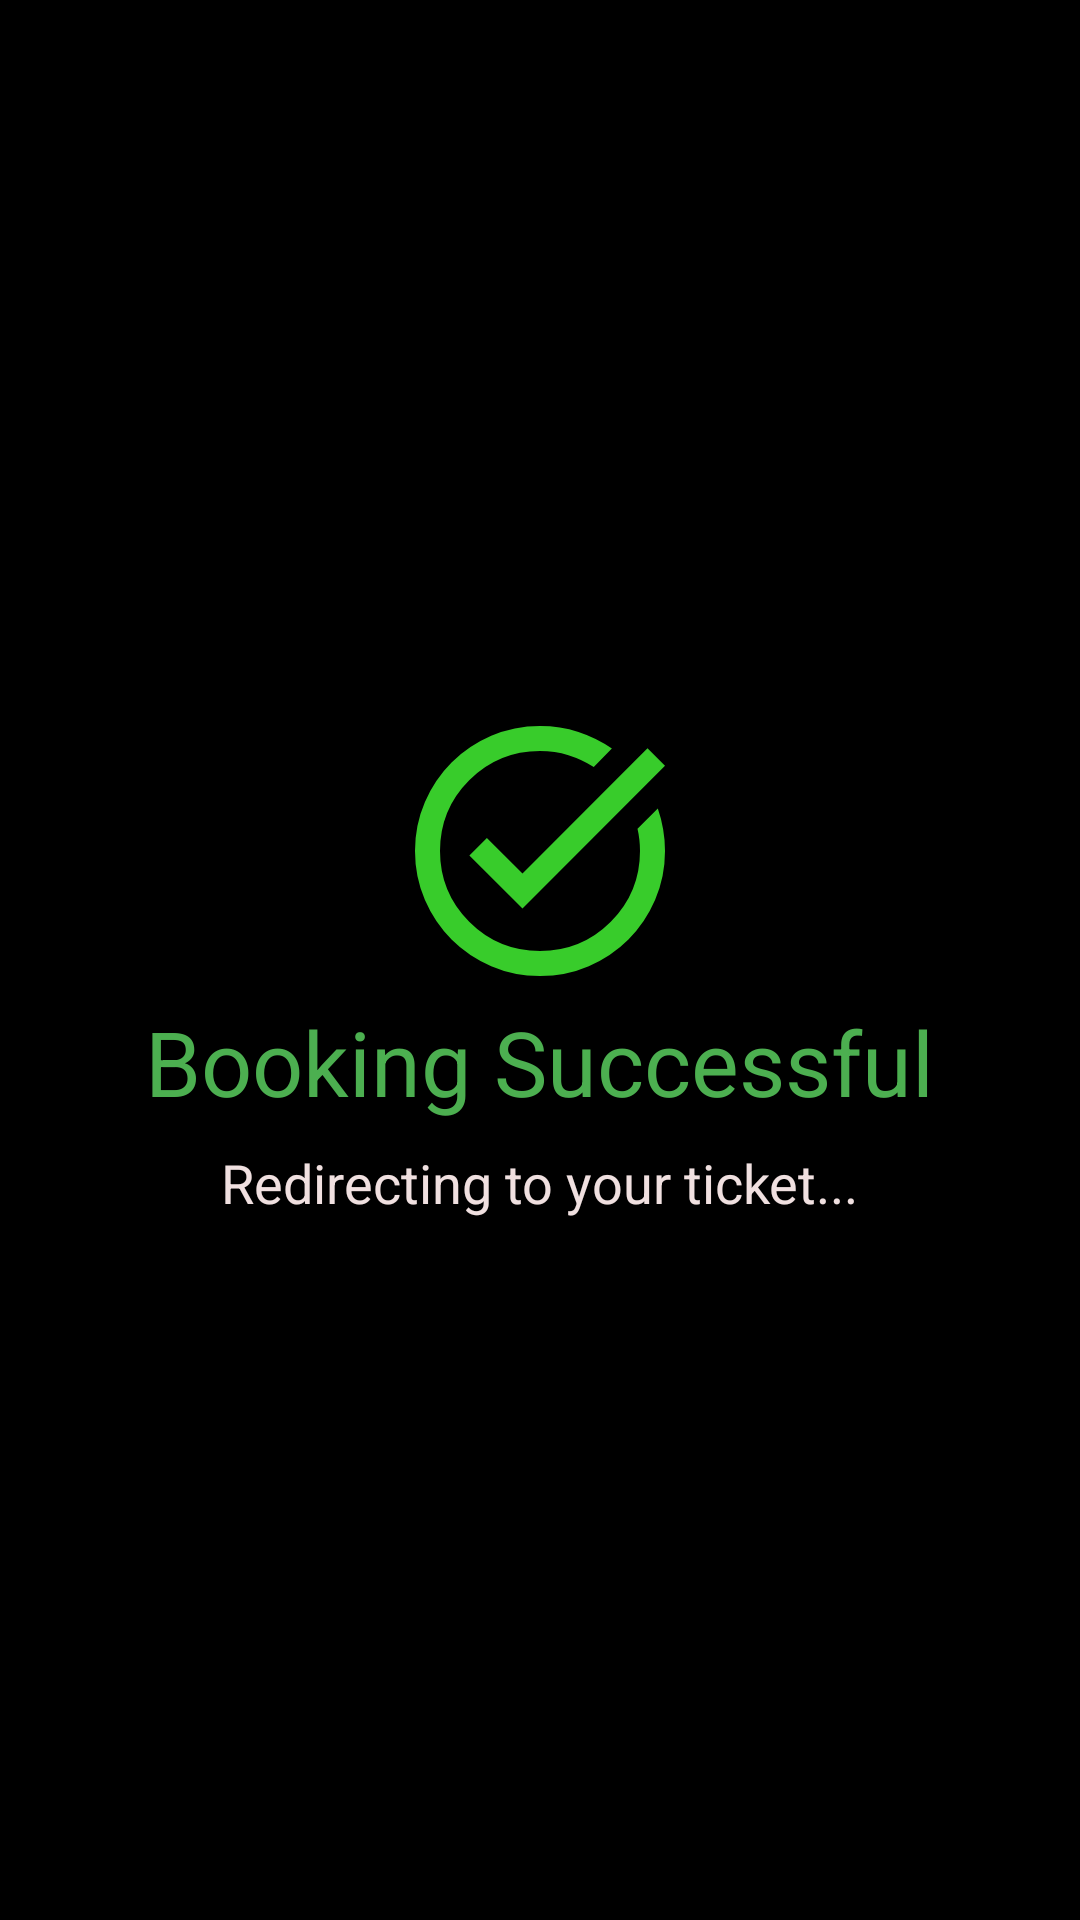

Named icons in this screenshot (1080*1920) and their centers, point (x, y):
confirmed: point (540, 851)
